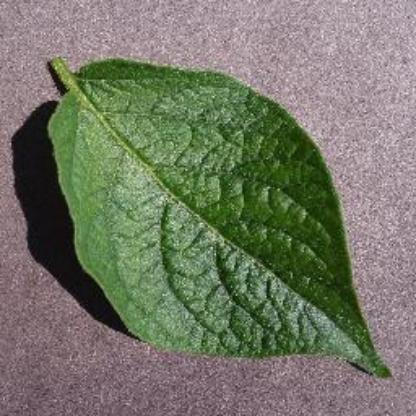Healthy-plant: (32, 30, 404, 406)
